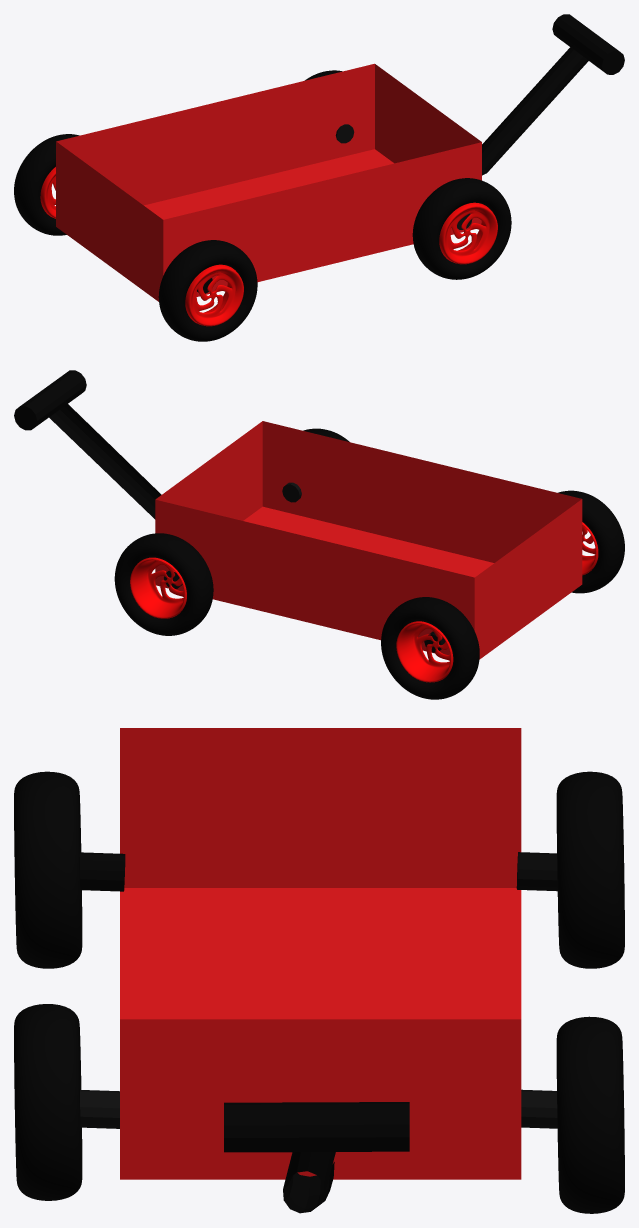
File: elarabasi.fbx
The picture shows the model from 3 angles, top to bottom: view 1: azimuth 30°, elevation 25°; view 2: azimuth 150°, elevation 25°; view 3: azimuth 270°, elevation 25°; orthographic projection. The views are drawn at different scales.
Parts seen in each view (by area): view 1: Cylinder.005, Circle, Circle.002, Mesh.001, Circle.001; view 2: Cylinder.005, Circle, Mesh.001, Circle.002, Circle.001; view 3: Cylinder.005, Circle, Mesh.001, Circle.002.
Part boxes in pixels (<box>): Cylinder.005: <box>56,14,624,301</box>; Circle: <box>305,70,511,279</box>; Circle.002: <box>158,240,257,341</box>; Mesh.001: <box>14,134,79,235</box>; Circle.001: <box>40,167,55,218</box>; Cylinder.005: <box>14,370,582,659</box>; Circle: <box>114,428,349,635</box>; Mesh.001: <box>381,597,479,699</box>; Circle.002: <box>558,490,624,593</box>; Circle.001: <box>396,621,453,682</box>; Cylinder.005: <box>79,728,557,1213</box>; Circle: <box>14,1004,624,1213</box>; Mesh.001: <box>556,771,624,968</box>; Circle.002: <box>14,771,82,968</box>.
Size of the model in its own units: 12.48 by 3.39 by 6.92.
